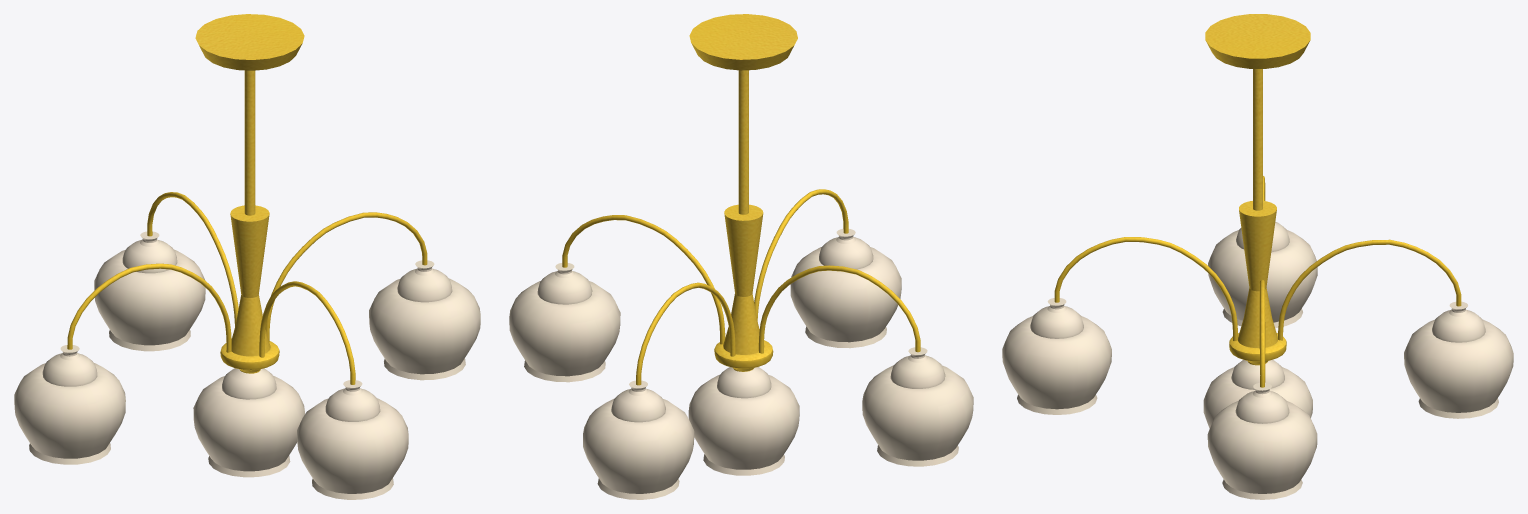
The model's file is chandelier.glb.
The picture shows the model from 3 angles, left to right: view 1: azimuth 30°, elevation 25°; view 2: azimuth 150°, elevation 25°; view 3: azimuth 270°, elevation 25°; orthographic projection. The views are drawn at different scales.
Visible parts, largest first — view 1: polySurface56; view 2: polySurface56; view 3: polySurface56.
Part boxes in pixels (bbox=[...]): polySurface56: bbox=[14, 14, 480, 499]; polySurface56: bbox=[509, 14, 973, 499]; polySurface56: bbox=[1002, 14, 1513, 499].
Size of the model in its own units: 1.06 by 0.9507 by 1.07.
Materials: 1 (1 with a texture image).
